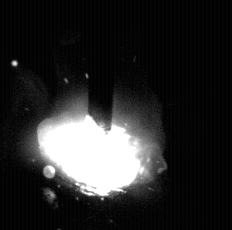arame: (88, 0, 114, 130)
poca: (37, 0, 166, 230)
